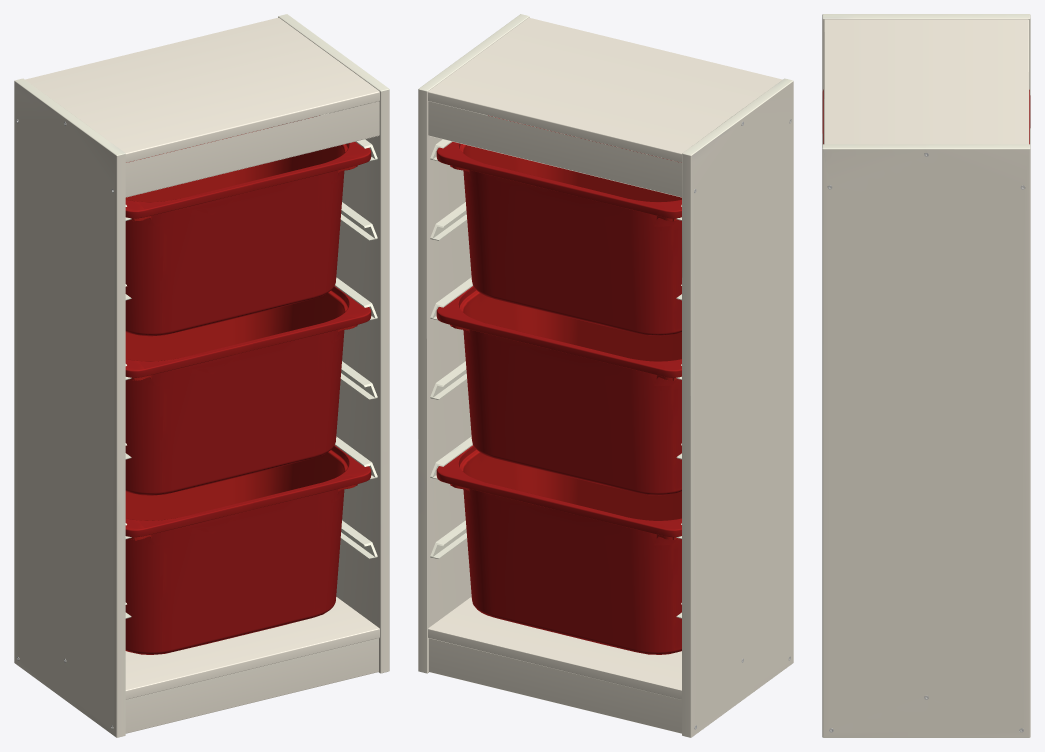
The model's file is 10 - TROFAST Storage combination with boxes - whitered 46x30x94 cm.glb.
The picture shows the model from 3 angles, left to right: view 1: azimuth 30°, elevation 25°; view 2: azimuth 150°, elevation 25°; view 3: azimuth 270°, elevation 25°; orthographic projection.
Parts seen in each view (by area): view 1: model, ASY_ART_70582085_S01_NV01.001, ASY_ART_70582085_S01_NV01, ASY_ART_70582085_S01_NV01.002; view 2: model, ASY_ART_70582085_S01_NV01, ASY_ART_70582085_S01_NV01.001, ASY_ART_70582085_S01_NV01.002; view 3: model.
Part boxes in pixels (x1,y1,x2,y2): model: (14, 14, 389, 737); ASY_ART_70582085_S01_NV01.001: (125, 286, 371, 495); ASY_ART_70582085_S01_NV01: (125, 445, 371, 654); ASY_ART_70582085_S01_NV01.002: (125, 115, 371, 336); model: (418, 14, 793, 737); ASY_ART_70582085_S01_NV01: (436, 445, 681, 654); ASY_ART_70582085_S01_NV01.001: (436, 286, 681, 495); ASY_ART_70582085_S01_NV01.002: (436, 115, 681, 336); model: (822, 14, 1030, 737).
Size of the model in its own units: 0.4612 by 0.9375 by 0.3.
2 materials, 2 textured.
